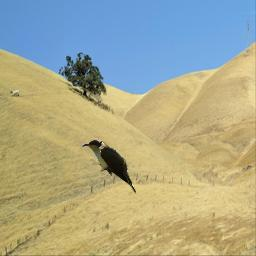Cuckoo: (81, 140, 136, 195)
